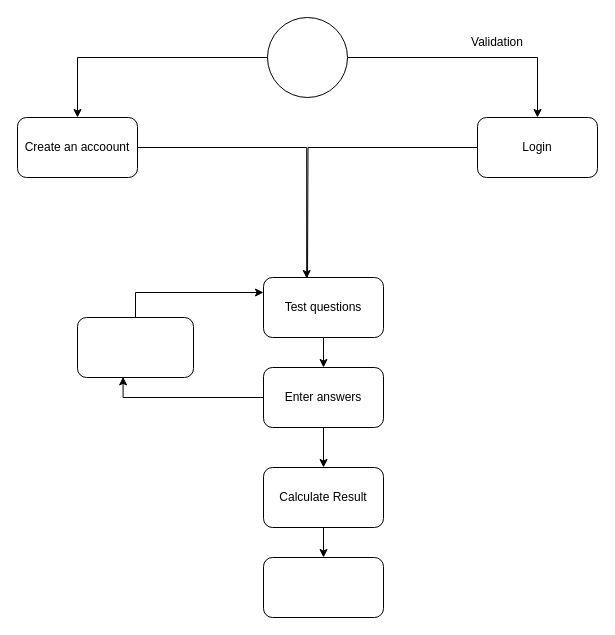
The diagram is 615 pixels wide and 635 high, and some of its shapes have lost their labels. The shapes that lost their labels are listed below. From the top down, each one's box as (x1, y1, x2, y2) in pixels, then its label:
(266, 16, 348, 98): Start
(76, 316, 194, 378): Validate answers
(262, 556, 384, 618): Display result
